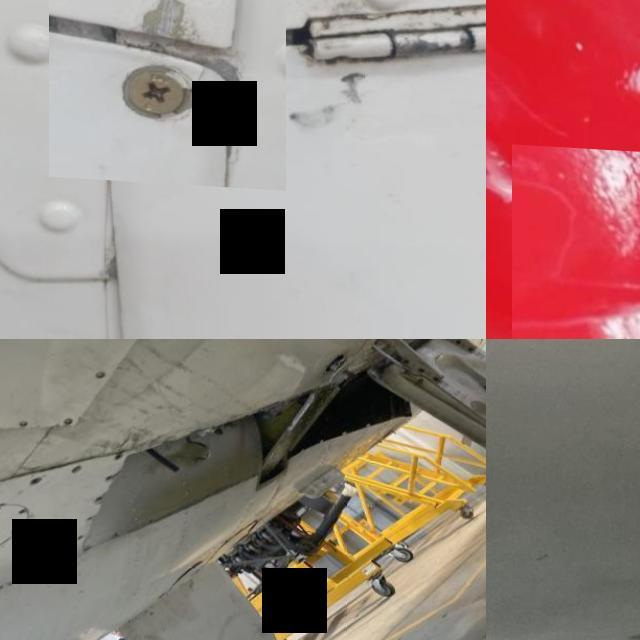Crack: (48, 0, 286, 185), (511, 143, 640, 339)
Missing_Fastener: (15, 415, 30, 428), (54, 548, 66, 560), (12, 564, 26, 574), (61, 414, 76, 423), (93, 368, 106, 378), (30, 474, 42, 484), (112, 450, 124, 458), (104, 471, 112, 480)
